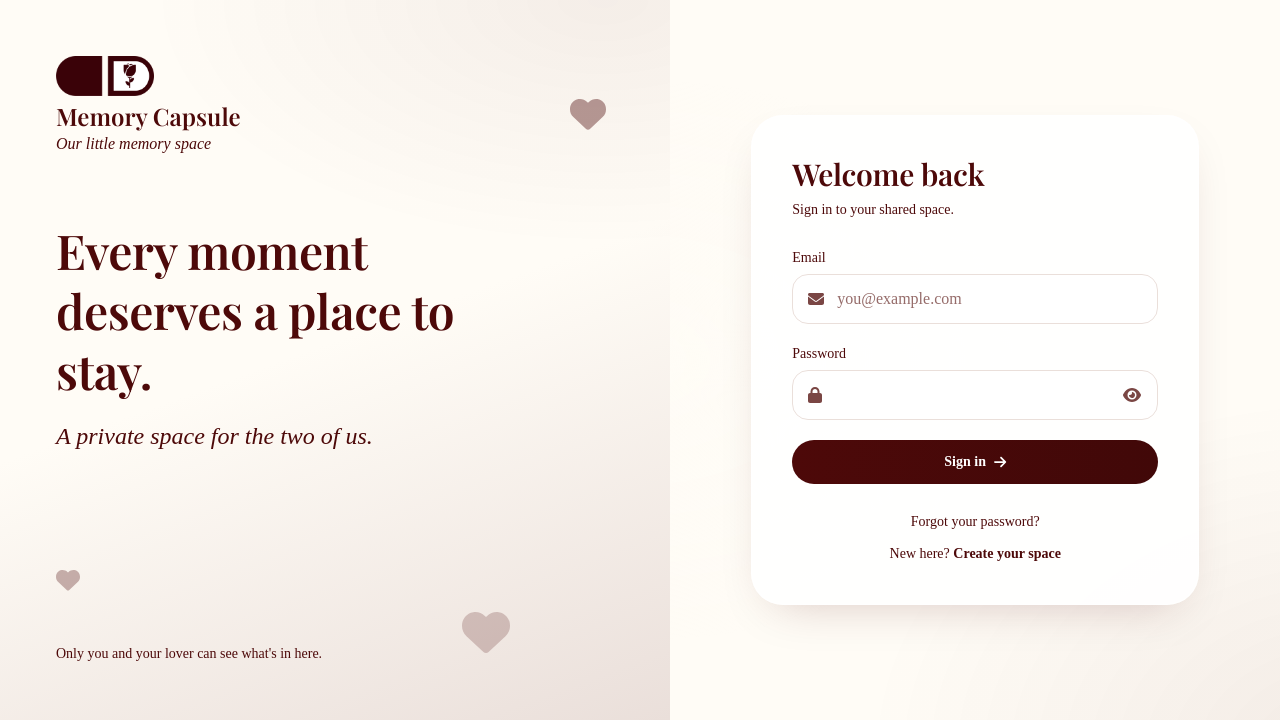
login › blocks submission when fields are empty
Click the button "Sign in": (975, 462) left=792, top=440, right=1158, bottom=484
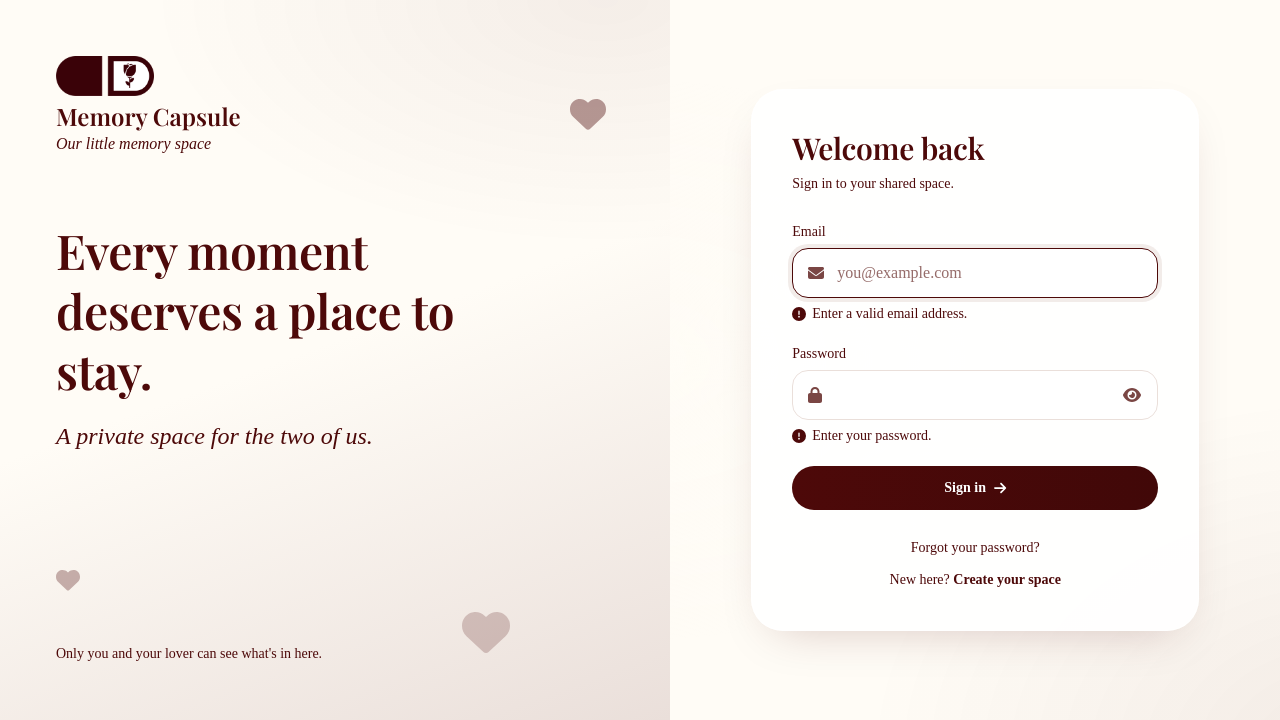
Expected: the text "Enter a valid email address." is shown, left=792, top=306, right=967, bottom=321
